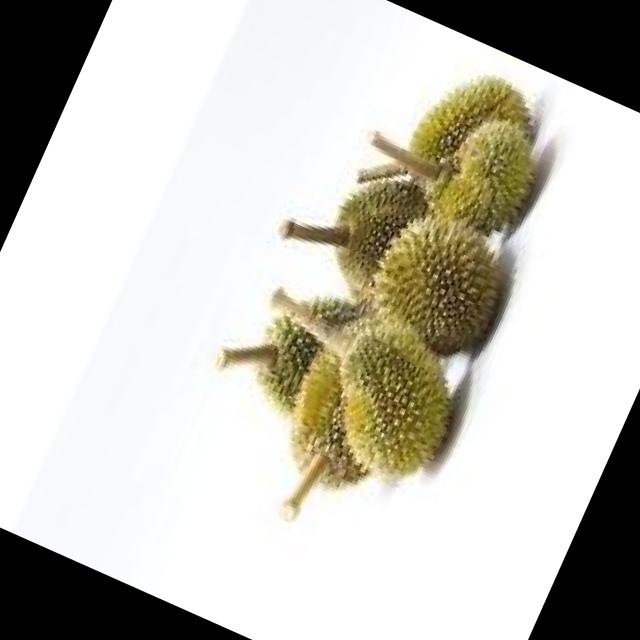fruit: (226, 268, 510, 556), (312, 160, 554, 396), (370, 36, 597, 275)
